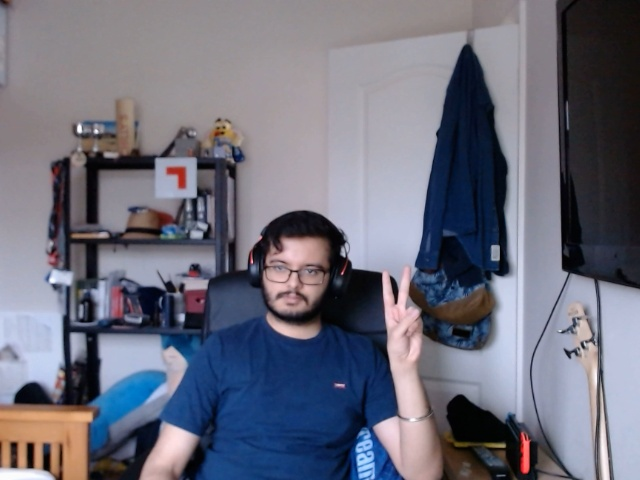Peace: (373, 252, 448, 377)
